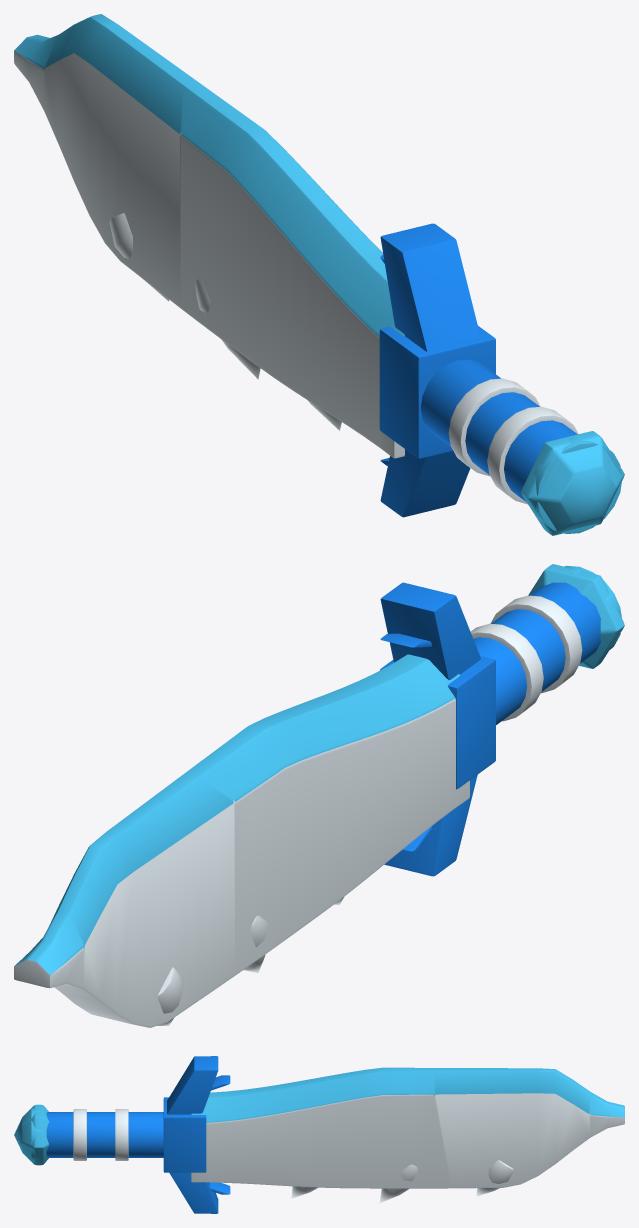
File: Boss_FrostRevenant.glb
3 views of the same model, one above another, from view 1: azimuth 30°, elevation 25°; view 2: azimuth 150°, elevation 25°; view 3: azimuth 270°, elevation 25° (orthographic). The views are drawn at different scales.
Visible parts, largest first — view 1: Boss_FrostRevenant; view 2: Boss_FrostRevenant; view 3: Boss_FrostRevenant.
Boxes of the visible parts, box(x1,y1,x2,y2) form: Boss_FrostRevenant: box(14, 14, 624, 535); Boss_FrostRevenant: box(14, 564, 624, 1027); Boss_FrostRevenant: box(14, 1056, 624, 1213).
Size of the model in its own units: 0.0991 by 0.26 by 1.
Materials: 1 (1 with a texture image).
